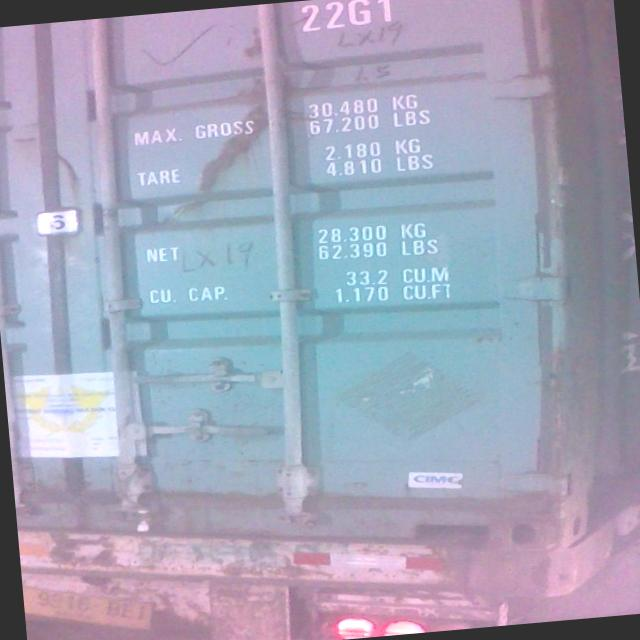seal: (129, 502, 156, 535)
